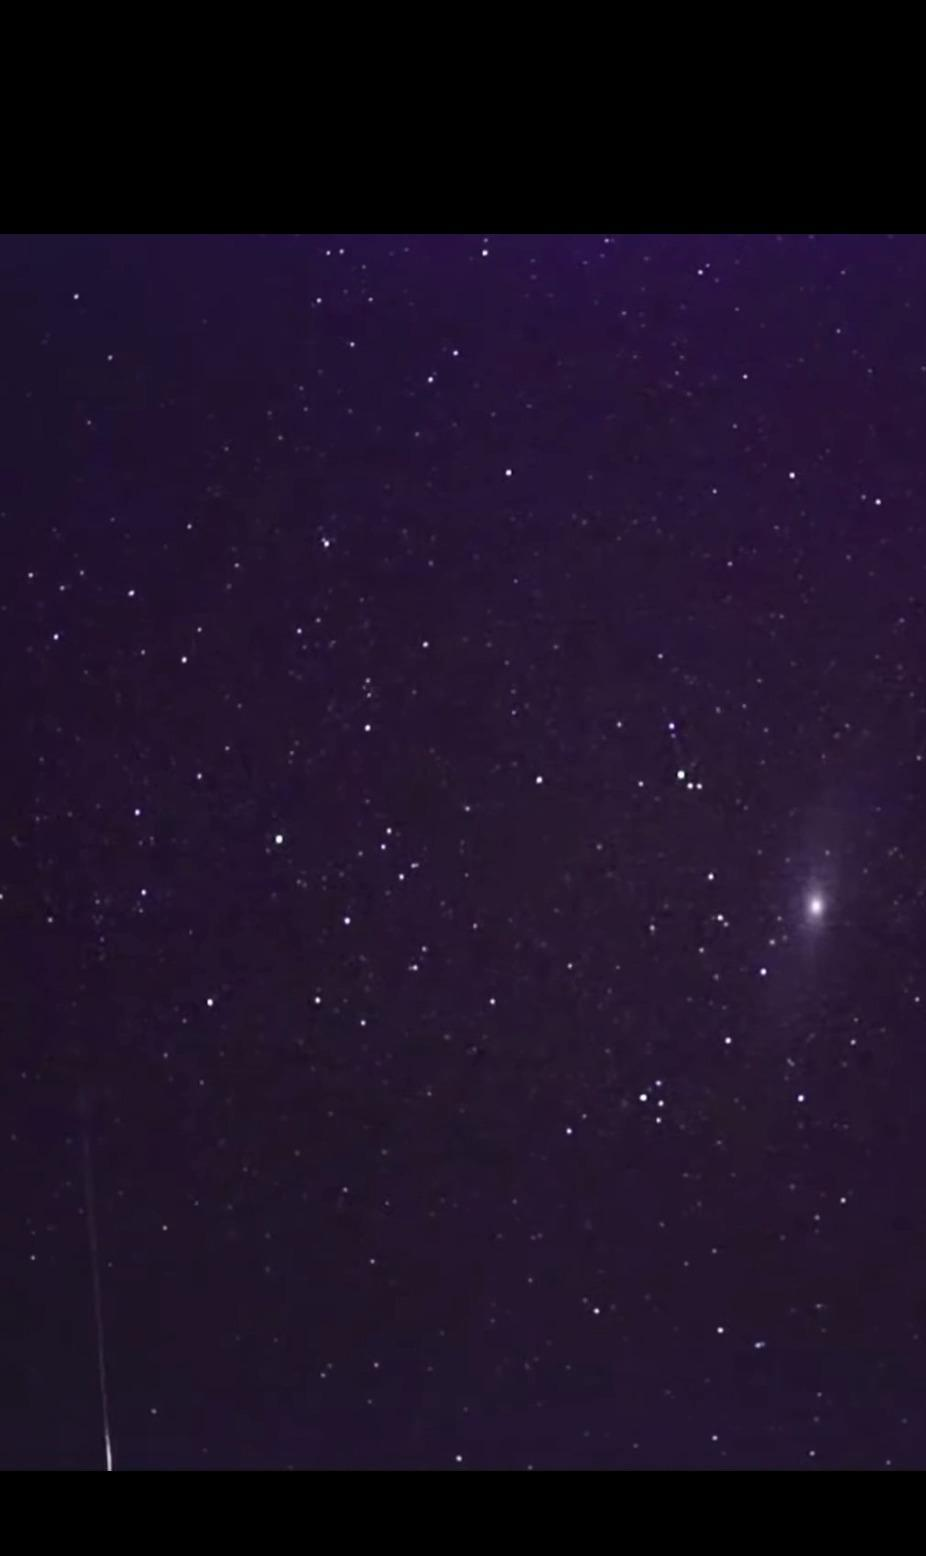meteorite: (77, 1081, 128, 1476)
